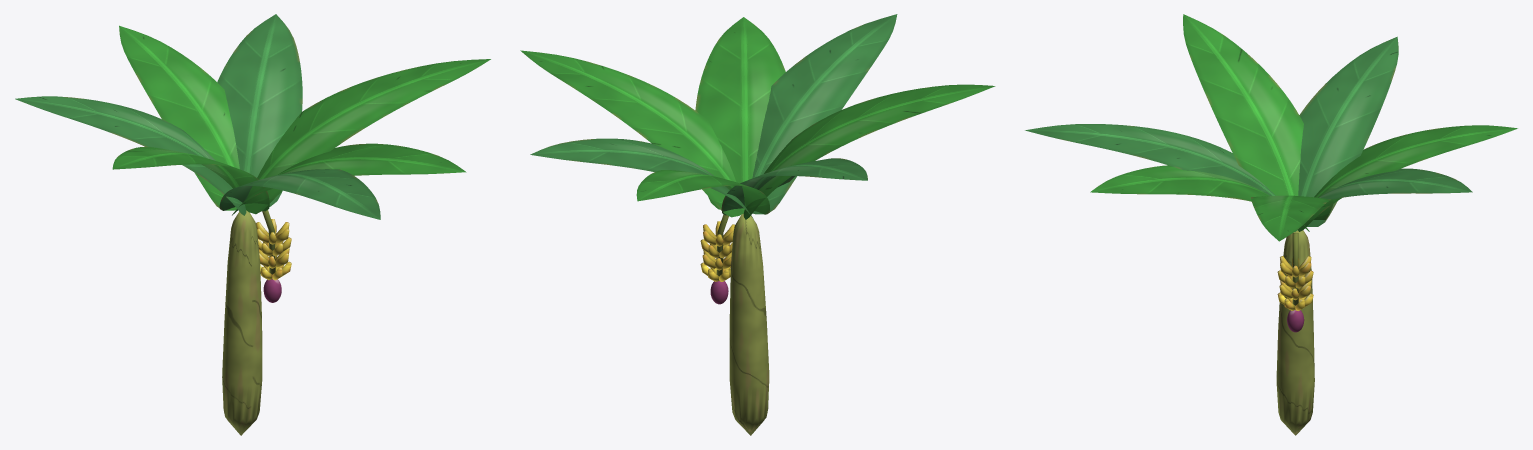
File: banana_tree.glb
3 renders of one model, left to right at view 1: azimuth 30°, elevation 25°; view 2: azimuth 150°, elevation 25°; view 3: azimuth 270°, elevation 25°, orthographic. The views are drawn at different scales.
Parts seen in each view (by area): view 1: Crown_leaf, Trunk, Fruit; view 2: Crown_leaf, Trunk, Fruit; view 3: Crown_leaf, Trunk, Fruit.
Part boxes in pixels (x1,y1,x2,y2): Crown_leaf: (15, 14, 490, 219); Trunk: (222, 210, 262, 435); Fruit: (256, 210, 291, 302); Crown_leaf: (520, 14, 995, 219); Trunk: (729, 213, 769, 435); Fruit: (700, 214, 734, 304); Crown_leaf: (1025, 14, 1517, 241); Trunk: (1276, 230, 1314, 435); Fruit: (1277, 233, 1313, 332).
Bounding box in the file's own units: 4.88 × 3.86 × 5.16.
Materials: 1 (1 with a texture image).
